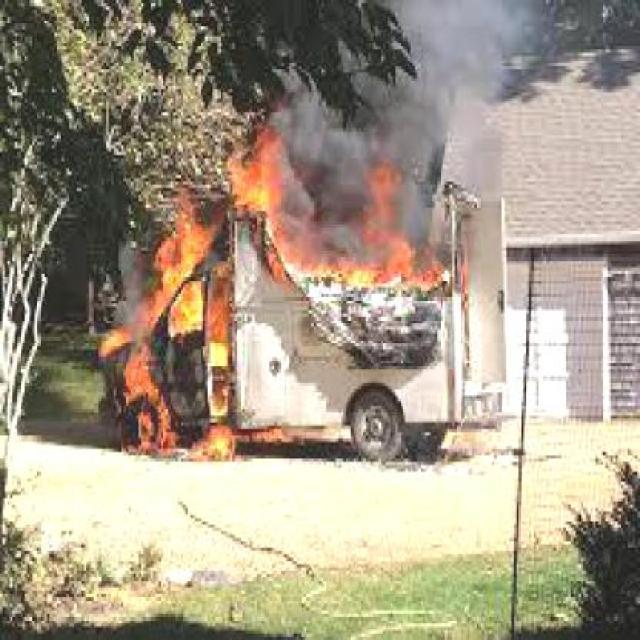Fire: (74, 194, 232, 478), (215, 147, 456, 310)
Smoke: (375, 0, 533, 158)
